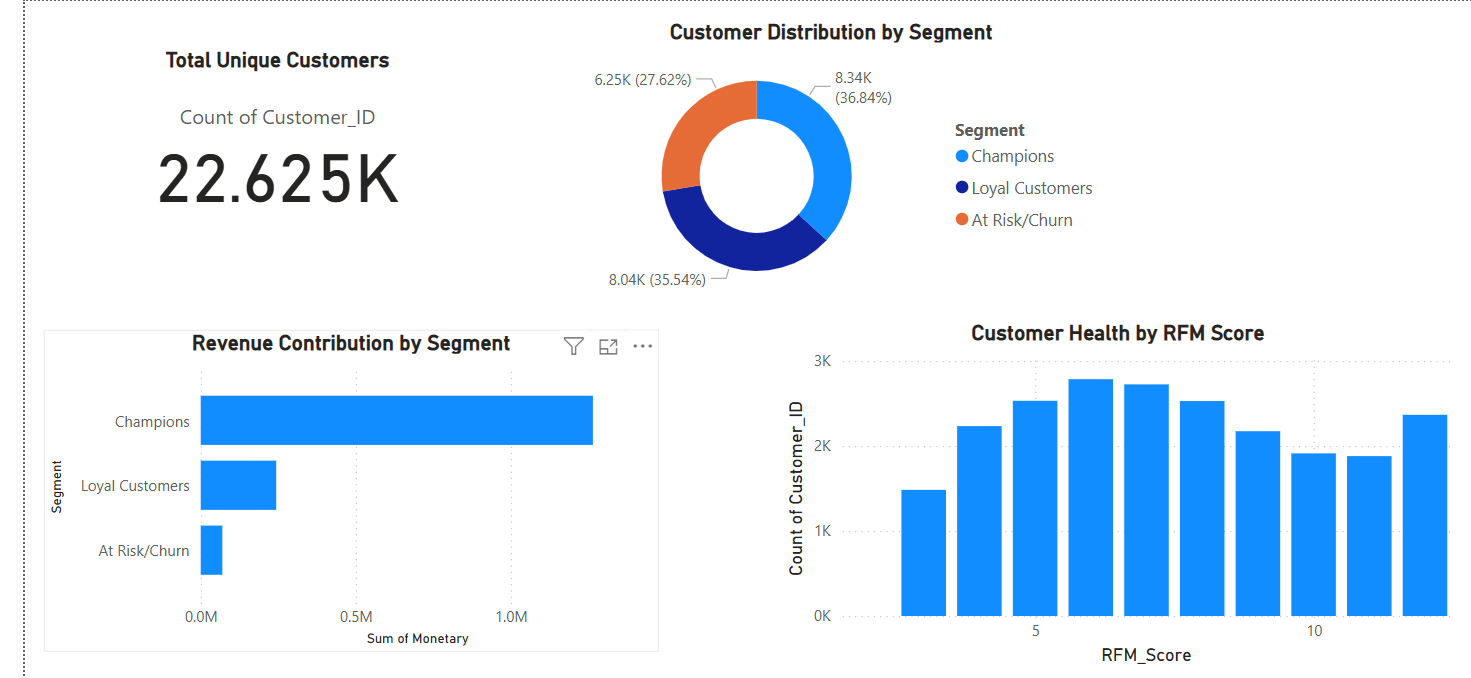

The page's visual inventory and layout, read from the dashboard file:
{"tool":"powerbi","page":{"name":"RFM","canvas":[1280,720],"ordinal":2},"visuals":[{"type":"cardVisual","title":"Total Unique Customers","fields":{"Data":["Count(rfm_segments.Customer_ID)"]},"box":[53,37,298,150],"z":0},{"type":"donutChart","title":"Customer Distribution by Segment","fields":{"Category":["rfm_segments.Segment"],"Y":["Count(rfm_segments.Customer_ID)"]},"box":[422,14,446,233],"z":1000},{"type":"barChart","title":"Revenue Contribution by Segment","fields":{"Category":["rfm_segments.Segment"],"Y":["Sum(rfm_segments.Monetary)"]},"box":[15,263,492,258],"z":2000},{"type":"columnChart","title":"Customer Health by RFM Score","fields":{"Category":["rfm_segments.RFM_Score"],"Y":["CountNonNull(rfm_segments.Customer_ID)"]},"box":[604,255,541,281],"z":3000}]}

Visuals, with their boxes on the page's 1280x720 design canvas (x1, y1, x2, y2). These are canvas units, not pixel positions in the 1471x678 screenshot, which may show the page scaled, cropped or inside an application window:
"Total Unique Customers" cardVisual: 53,37,351,187
"Customer Distribution by Segment" donutChart: 422,14,868,247
"Revenue Contribution by Segment" barChart: 15,263,507,521
"Customer Health by RFM Score" columnChart: 604,255,1145,536
